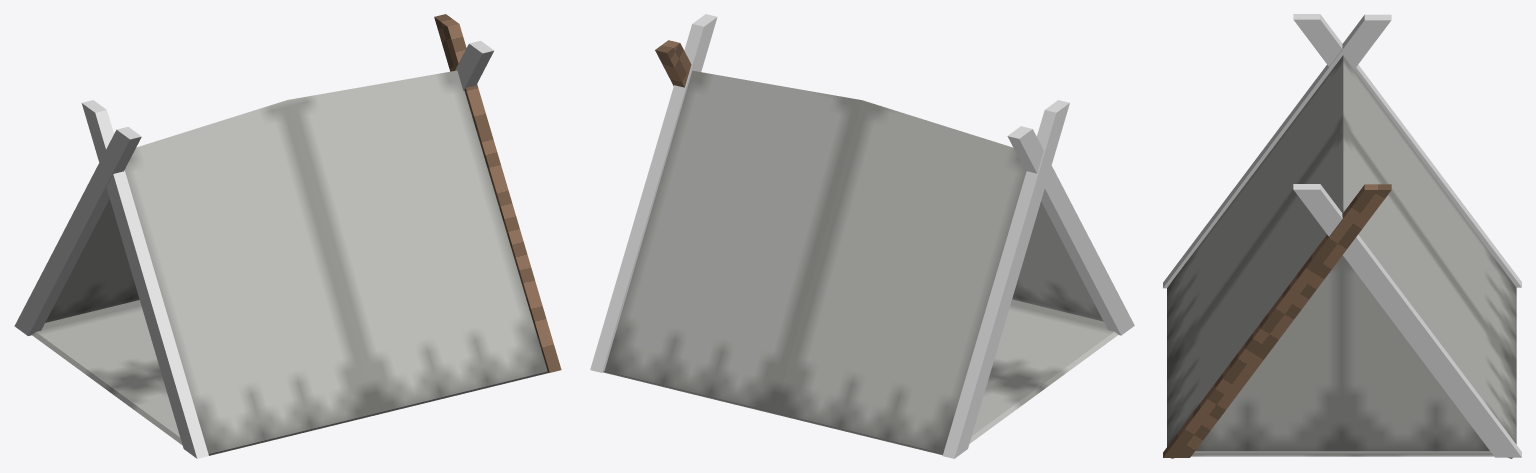
The model's file is Ext-TiendaCampaña.fbx.
3 views of the same model, side by side, from view 1: azimuth 30°, elevation 25°; view 2: azimuth 150°, elevation 25°; view 3: azimuth 270°, elevation 25° (orthographic).
Visible parts, largest first — view 1: Carpa, cuboid_2, cuboid_3, cuboid, cuboid_1; view 2: Carpa, cuboid_3, cuboid_2, cuboid_1, cuboid; view 3: Carpa, cuboid, cuboid_1, cuboid_2, cuboid_3.
Boxes of the visible parts, box(x1,y1,x2,y2) form: Carpa: box(32, 70, 549, 455); cuboid_2: box(81, 100, 208, 458); cuboid_3: box(14, 127, 141, 335); cuboid: box(434, 14, 561, 372); cuboid_1: box(455, 40, 494, 90); Carpa: box(603, 70, 1118, 455); cuboid_3: box(942, 100, 1069, 458); cuboid_2: box(1007, 126, 1134, 335); cuboid_1: box(590, 14, 717, 372); cuboid: box(655, 40, 691, 87); Carpa: box(1167, 55, 1516, 458); cuboid: box(1163, 184, 1391, 457); cuboid_1: box(1293, 184, 1521, 457); cuboid_2: box(1163, 14, 1391, 288); cuboid_3: box(1293, 14, 1521, 287).
Bounding box in the file's own units: 3100 × 2234 × 2670.
Materials: 3 (3 with a texture image).
